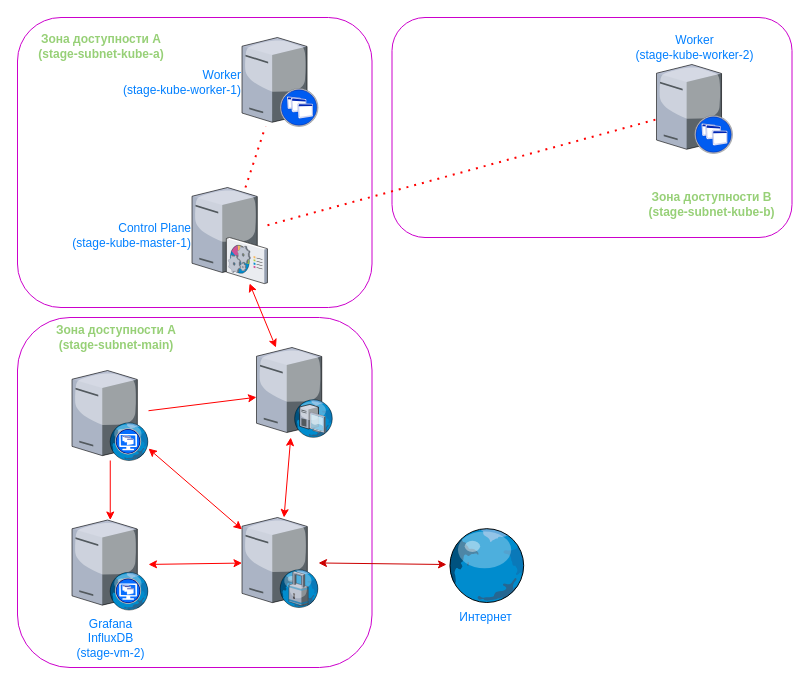
The diagram is 810 pixels wide and 685 high, and some of its shapes have lost their labels. The centre of each missing label's shape, as x and y in pixels:
"GitLab (stage-vm-1)" belongs at (110,415).
"kube proxy CI runner (stage-vm-3)" belongs at (294,392).
"Proxy SSH Бастион (stage-bastion)" belongs at (280,562).
